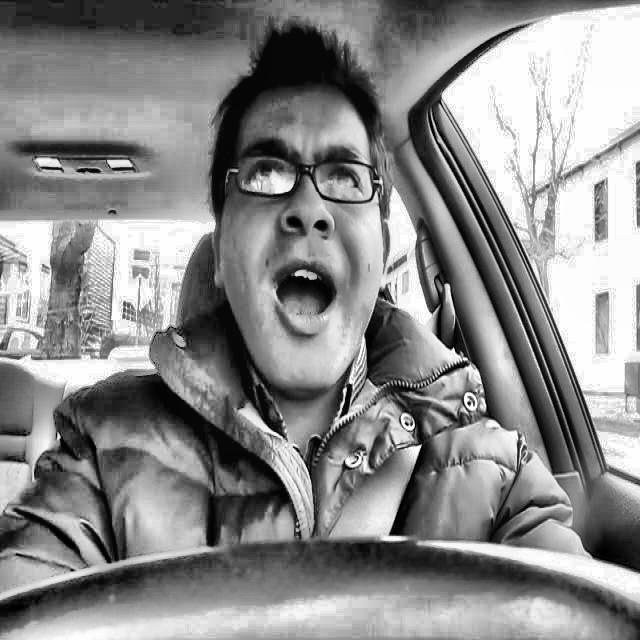open_eyes: (310, 156, 375, 212), (236, 146, 298, 196)
open_mouth: (252, 247, 361, 354)
